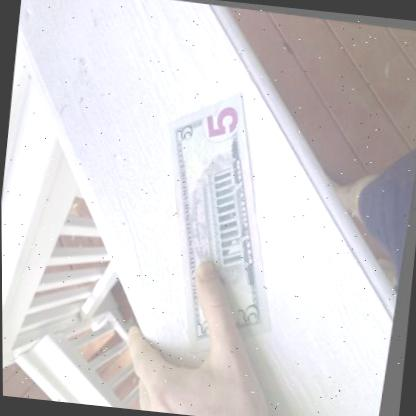five-back: (169, 89, 275, 353)
